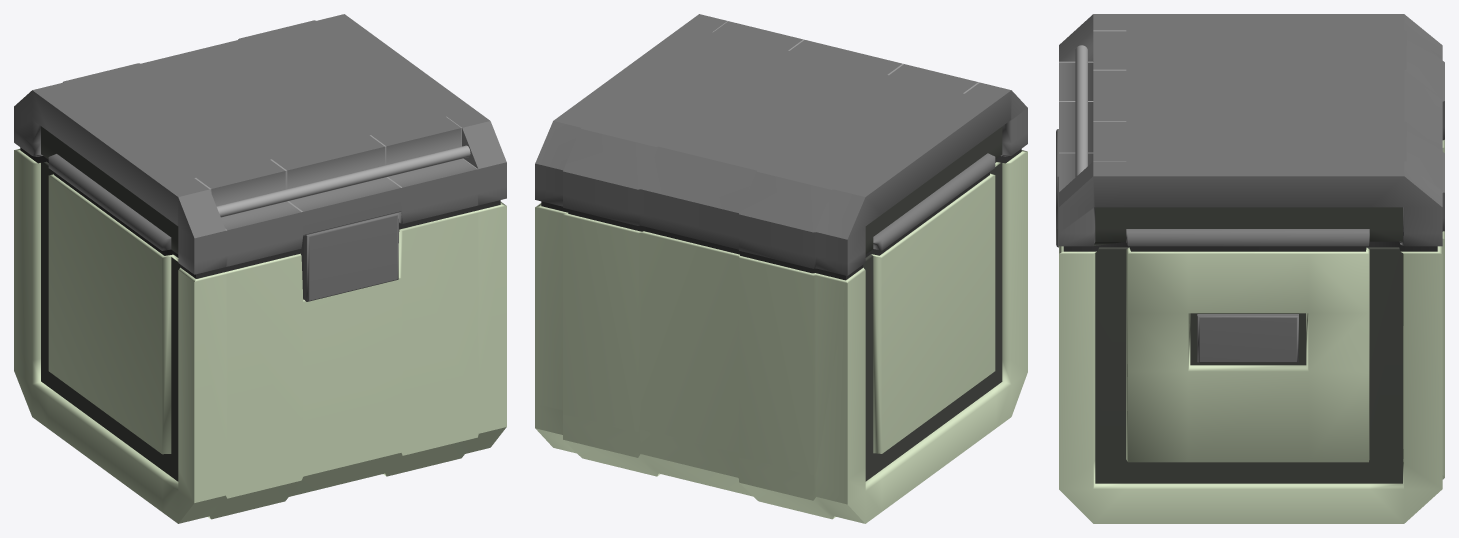
File: Cargo (S).fbx
The picture shows the model from 3 angles, left to right: view 1: azimuth 30°, elevation 25°; view 2: azimuth 150°, elevation 25°; view 3: azimuth 270°, elevation 25°; orthographic projection. The views are drawn at different scales.
Parts seen in each view (by area): view 1: polySurface76; view 2: polySurface76; view 3: polySurface76.
Boxes of the visible parts, x1,y1,x2,y2 form: polySurface76: [14, 14, 506, 523]; polySurface76: [535, 14, 1027, 523]; polySurface76: [1056, 14, 1444, 523].
Size of the model in its own units: 4 by 4.04 by 4.05.
